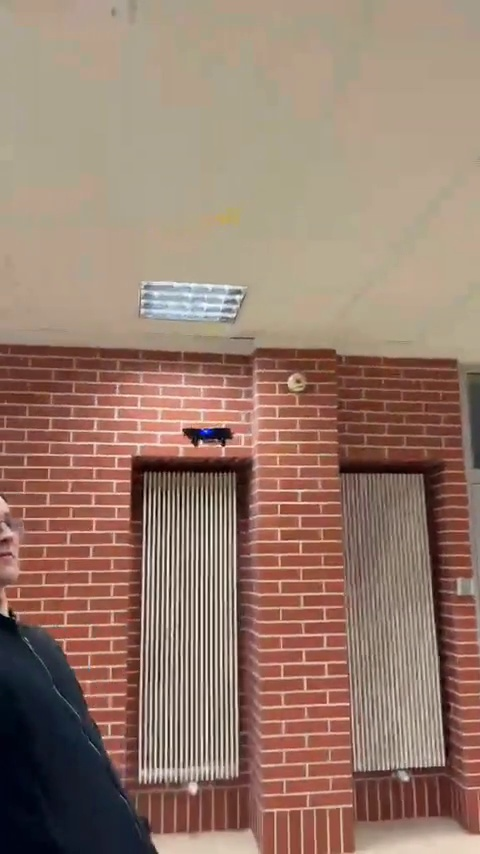drone: (182, 424, 234, 445)
no vest: (0, 490, 156, 852)
